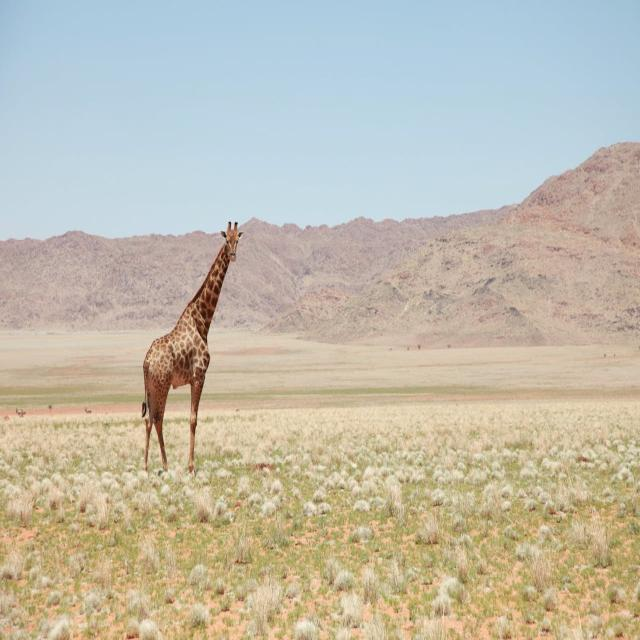Giraffe: (142, 222, 245, 476)
